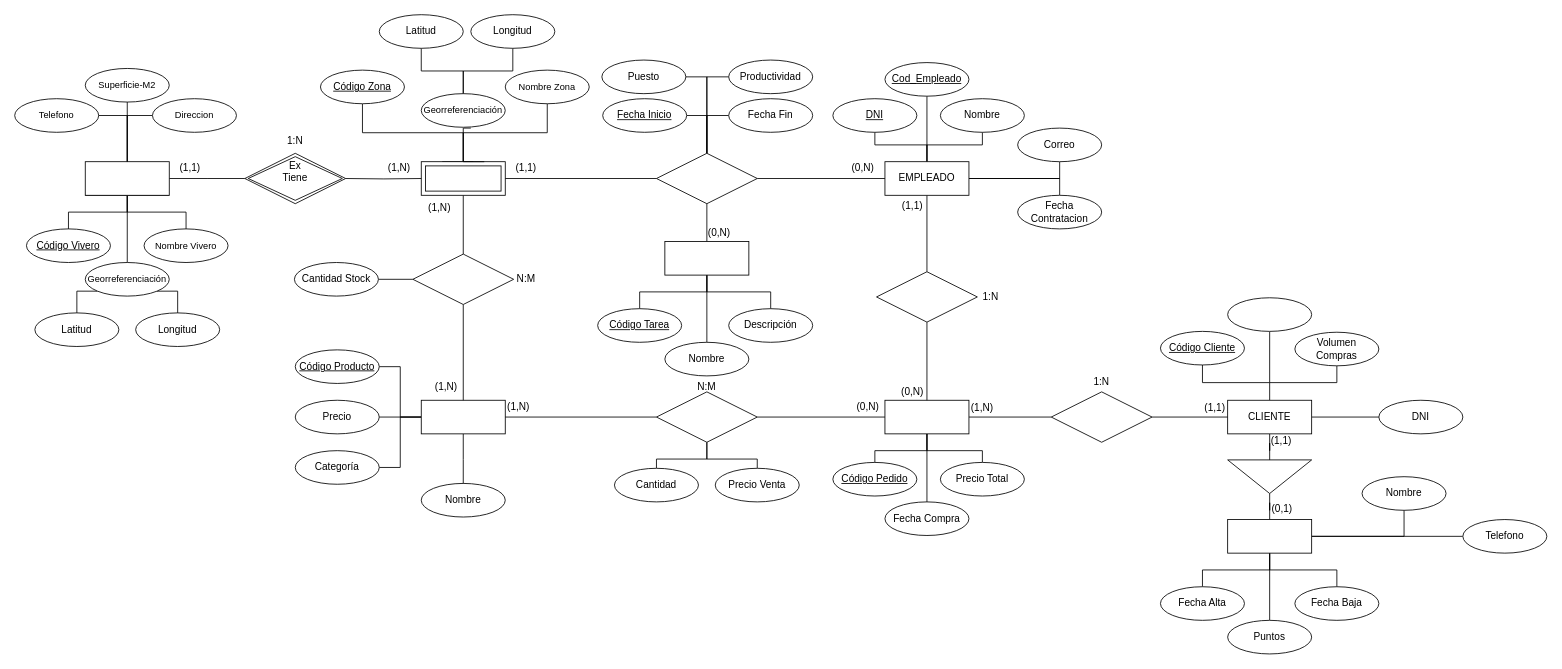
Some shapes in this 1562 by 669 pixel diagram are drawn without their labels. The centre of each missing label's shape, as x and y in pixels:
"Compra" belongs at pixel 1101 416.
"Contiene" belongs at pixel 706 416.
"Desempeña" belongs at pixel 706 178.
"Dispone de" belongs at pixel 463 278.
"Fecha Registro" belongs at pixel 1269 314.
"Gestiona" belongs at pixel 926 296.
"MIEMBRO_PLUS" belongs at pixel 1269 536.
"PEDIDO" belongs at pixel 926 416.
"PRODUCTO" belongs at pixel 462 416.
"TAREA" belongs at pixel 706 258.
"VIVERO" belongs at pixel 126 178.
"ZONA" belongs at pixel 462 178.
